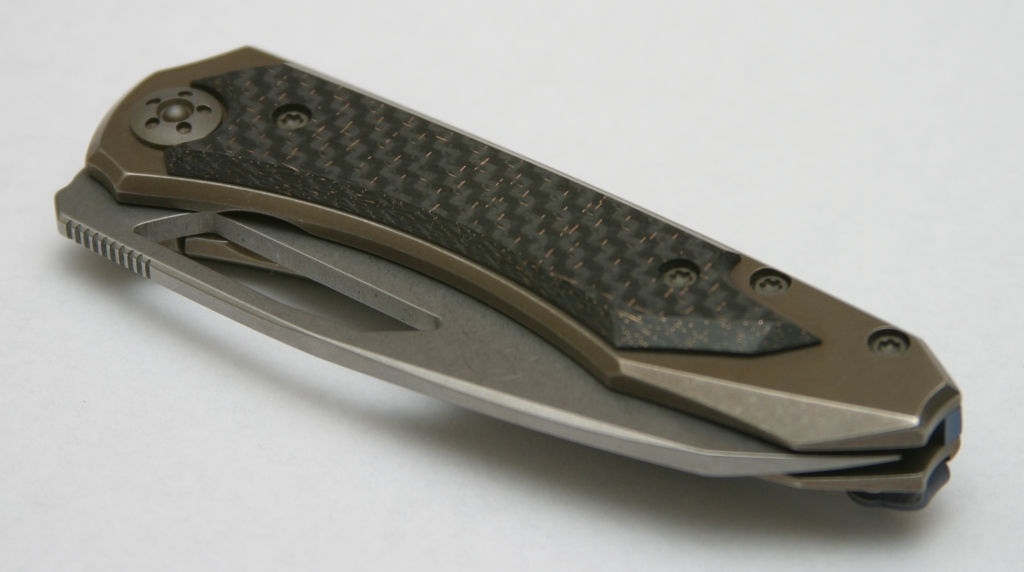knife: (53, 45, 964, 511)
